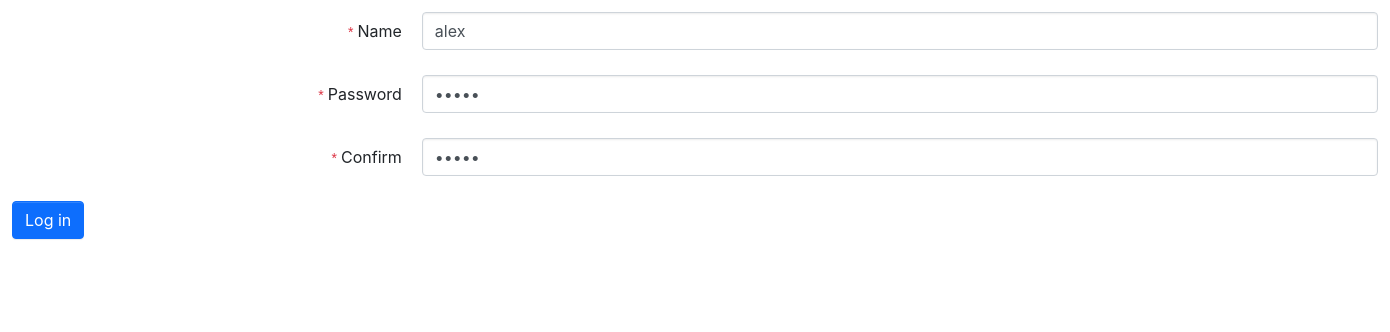
testing Form component › submit form with invalid values should show the error message
Clear the field showing "alex" at coordinates (900, 31), box [422,12,1378,50]
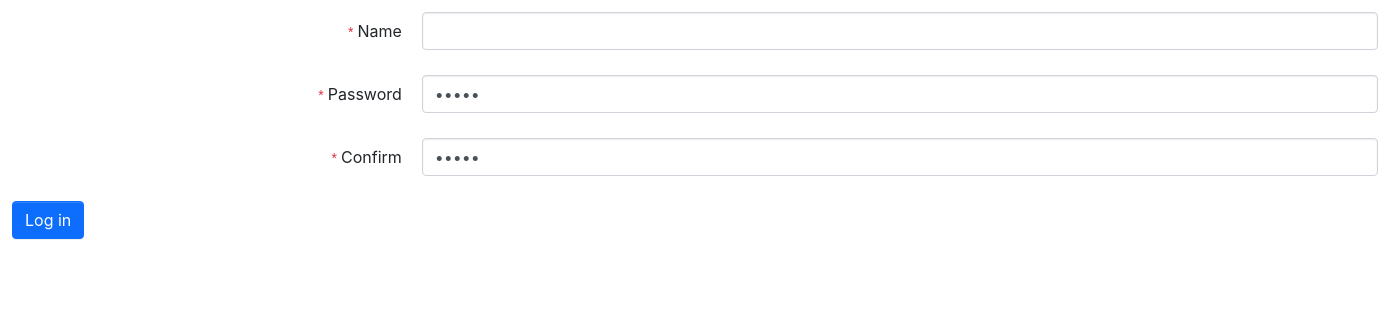
Clear the password field showing "12345" next to "Password" at coordinates (900, 94), box [422,75,1378,113]
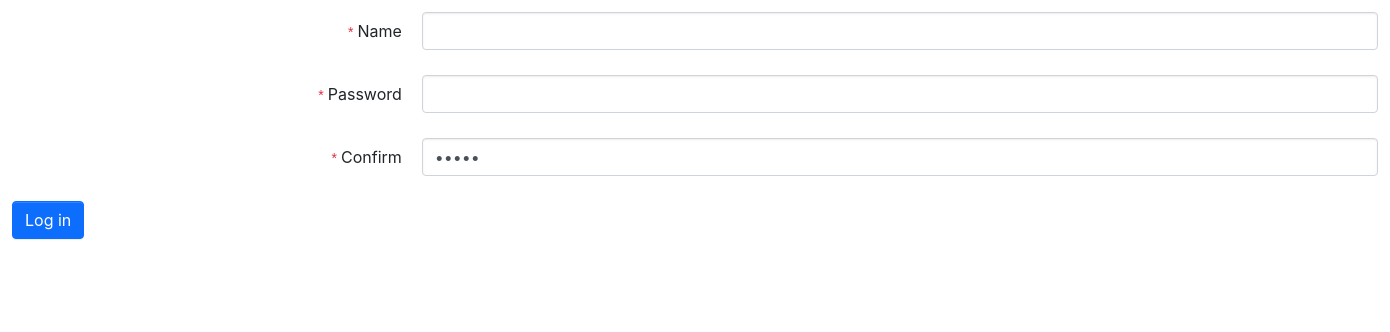
Click the button "Log in" at coordinates (48, 220), box [12,201,84,239]
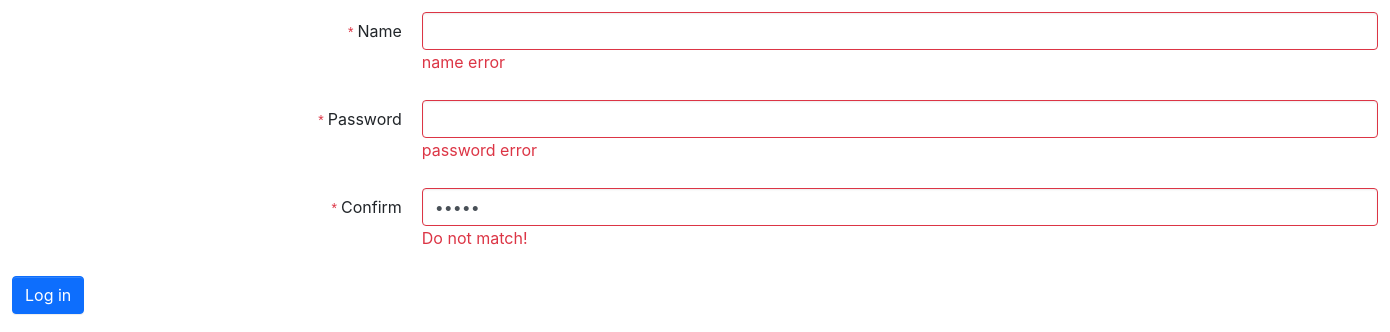
Expected: the text "name error" is shown, [422,52,505,72]
Expected: the text "password error" is shown, [422,140,537,160]
